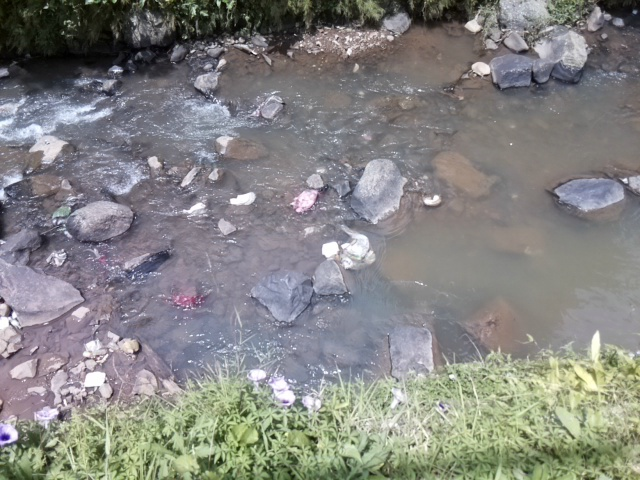Sampah_Plastik: (341, 235, 372, 268), (289, 189, 318, 213), (168, 293, 206, 308)
Sampah_Styrofoam: (228, 193, 255, 208), (85, 371, 108, 388), (322, 239, 339, 259)
